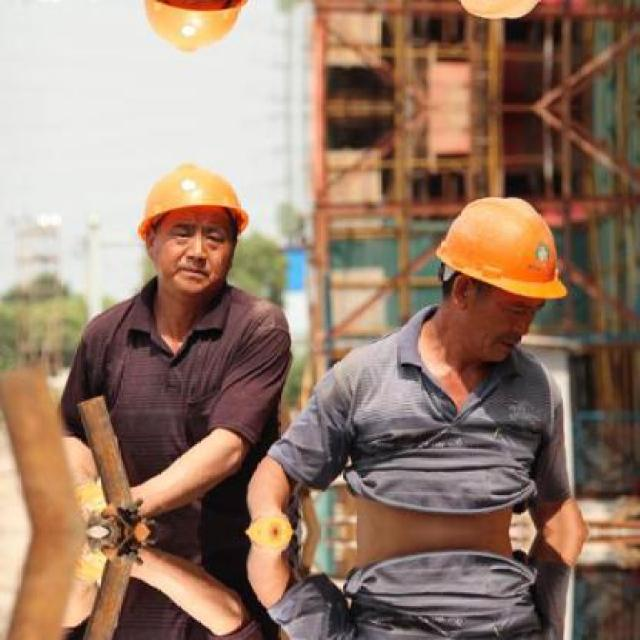helmet: (415, 178, 576, 374), (123, 142, 265, 307), (123, 0, 266, 74)
